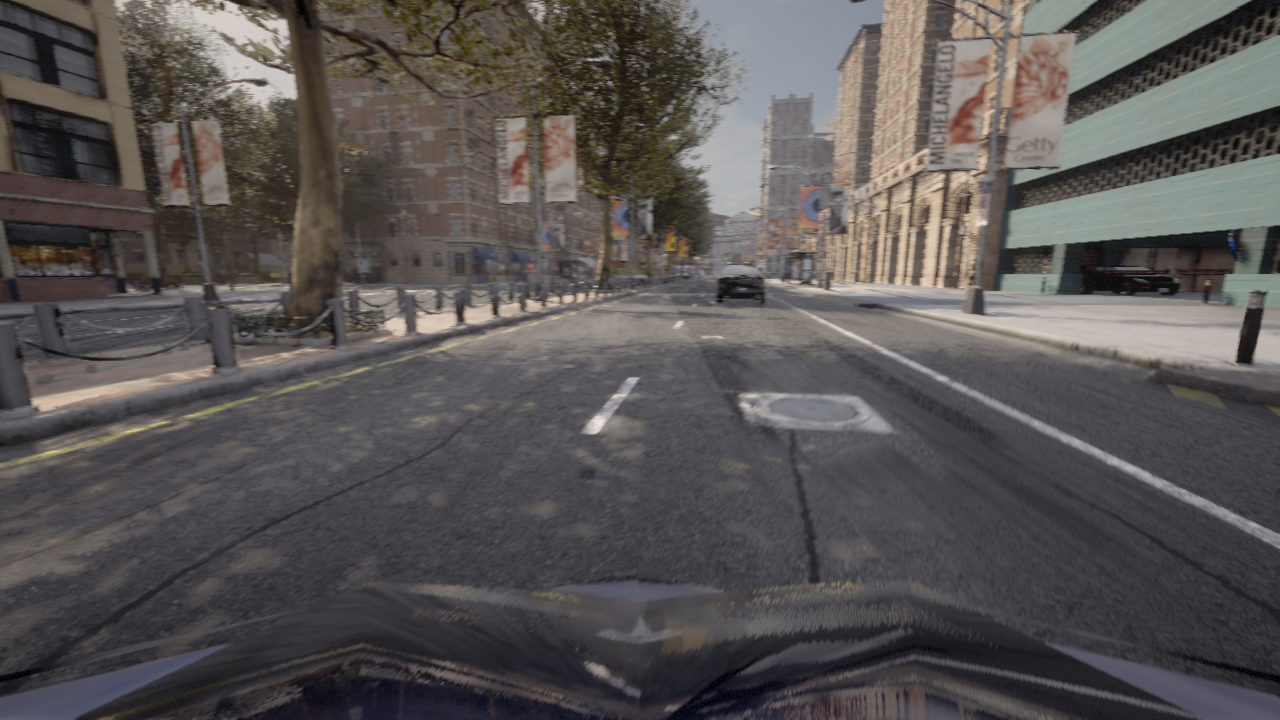cyclist: (0, 569, 1279, 719), (1094, 266, 1179, 295), (715, 263, 766, 303)
pedestrian: (965, 257, 976, 295)
